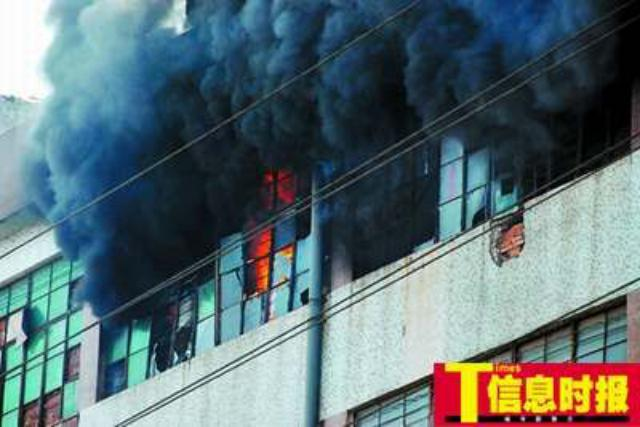smoke: (186, 1, 630, 113), (48, 4, 182, 143), (64, 149, 196, 280), (256, 113, 404, 159)
